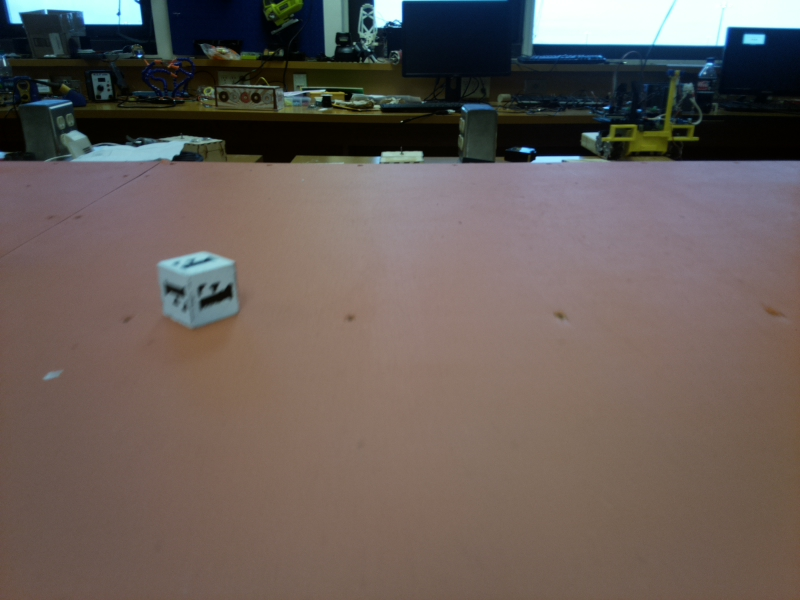blockF: (153, 245, 253, 333)
